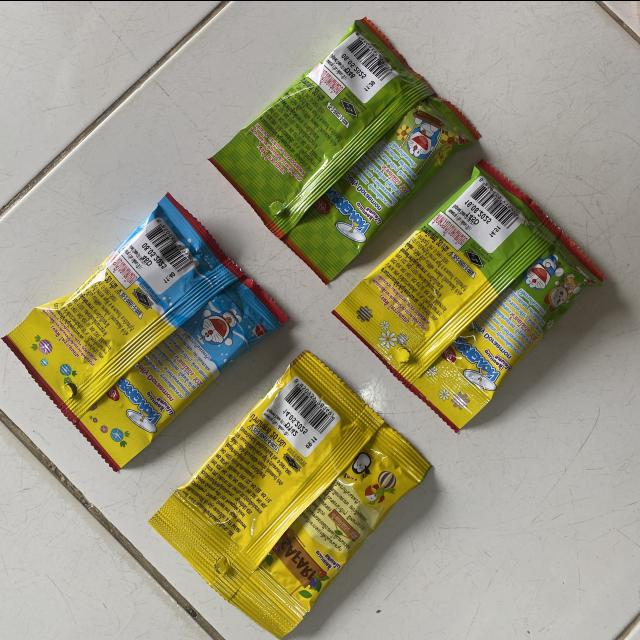plastik: (150, 351, 429, 638), (3, 193, 287, 470), (333, 160, 604, 429), (209, 18, 481, 283)
